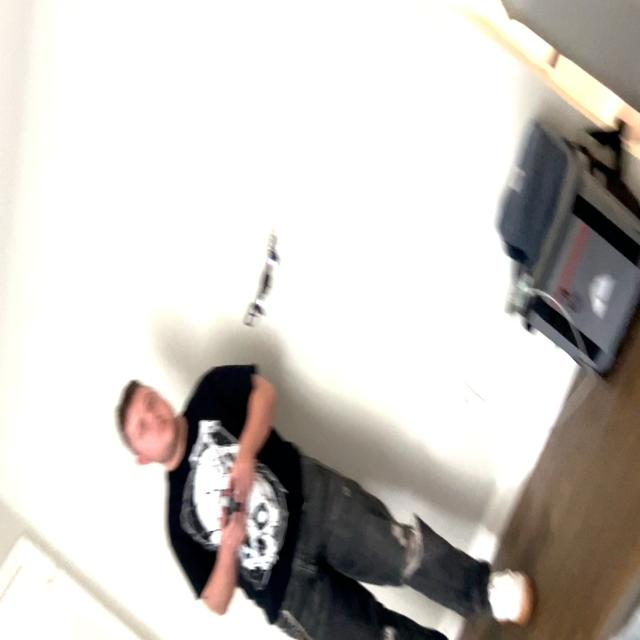drone: (232, 215, 288, 352)
